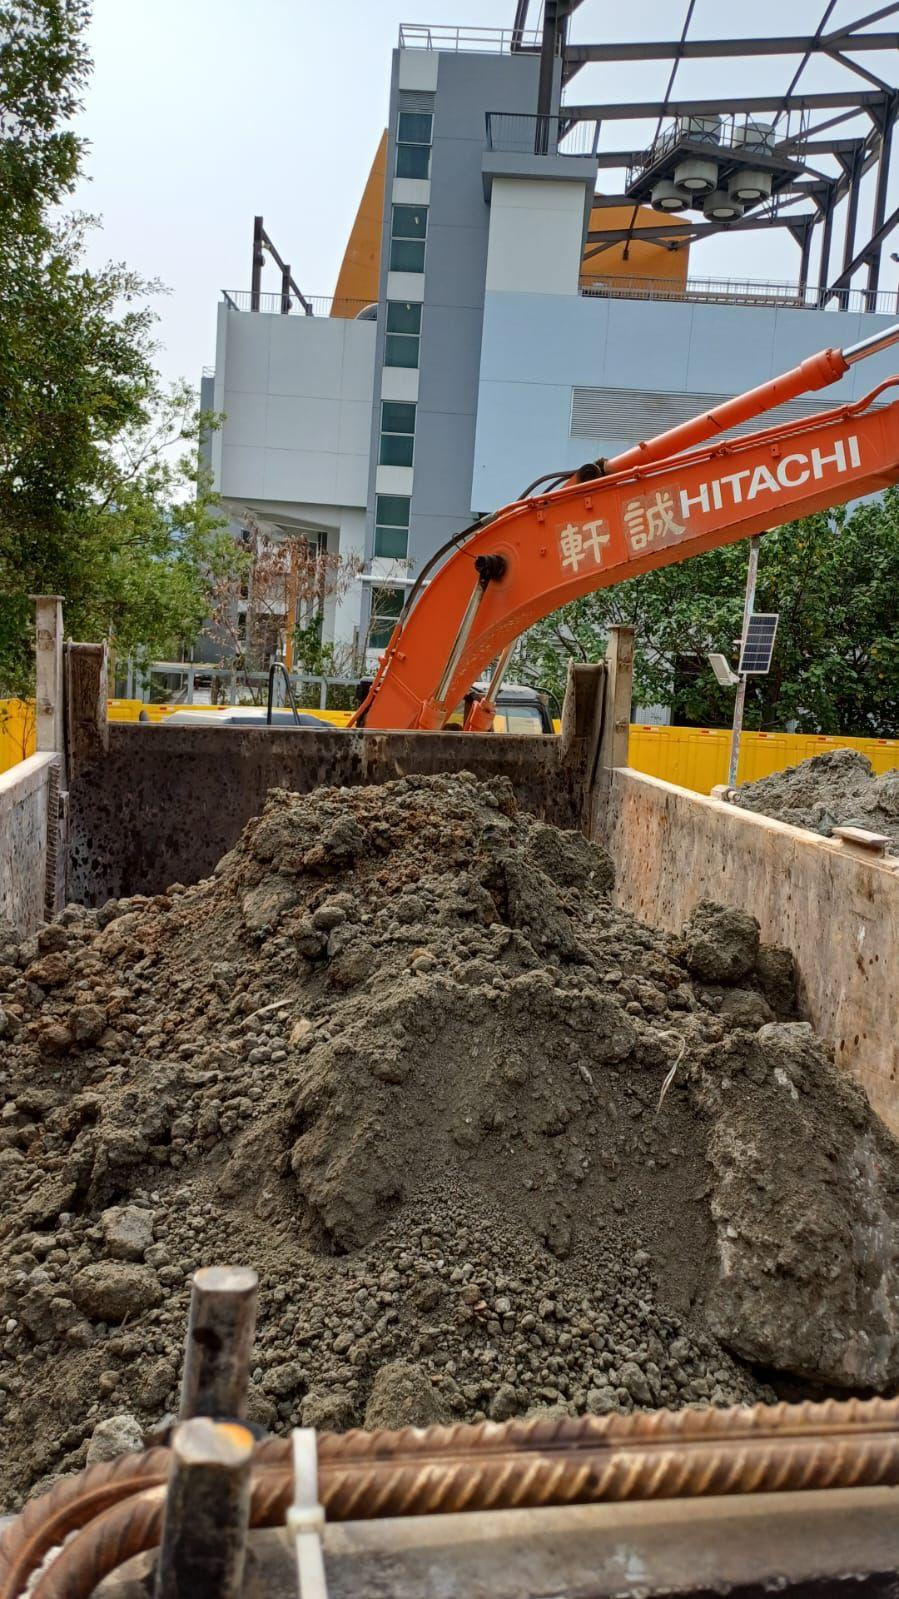wet: (0, 772, 885, 1455)
